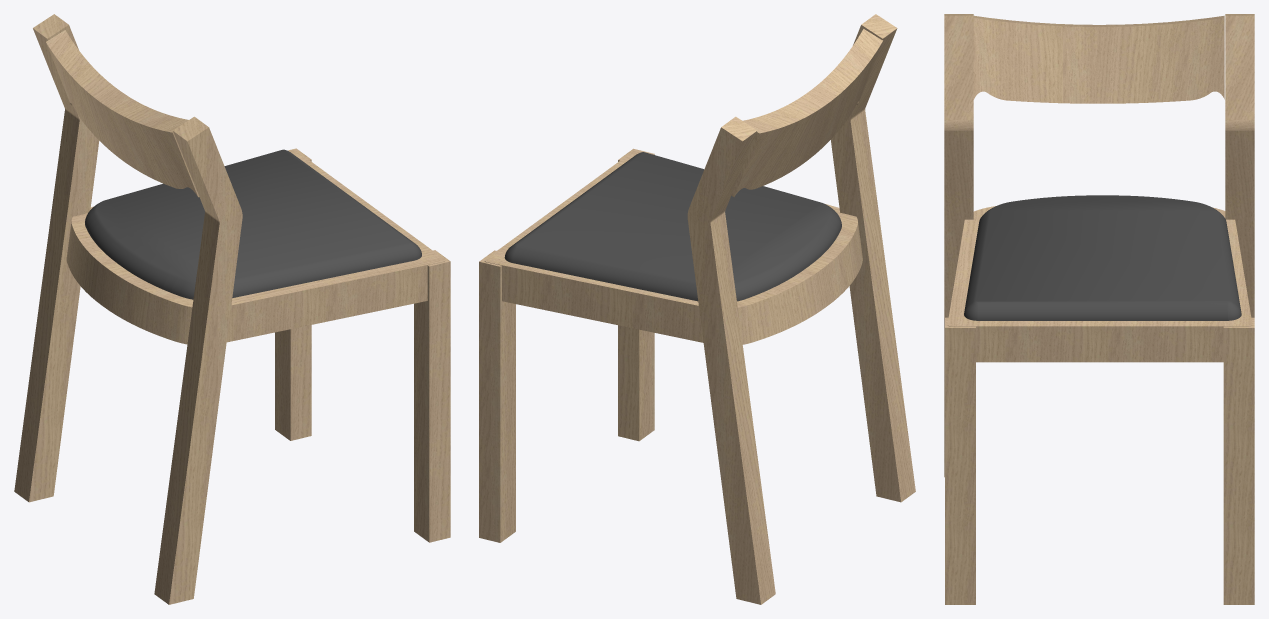
File: chair2.dae
3 renders of one model, left to right at view 1: azimuth 30°, elevation 25°; view 2: azimuth 150°, elevation 25°; view 3: azimuth 270°, elevation 25°, orthographic.
Visible parts, largest first — view 1: Profile_Chair (×6), Seat; view 2: Profile_Chair (×6), Seat; view 3: Profile_Chair (×6), Seat.
Part boxes in pixels (x1,y1,x2,y2): Profile_Chair (×6): (14, 14, 450, 604); Seat: (85, 149, 421, 299); Profile_Chair (×6): (479, 14, 915, 604); Seat: (504, 152, 841, 301); Profile_Chair (×6): (944, 14, 1254, 604); Seat: (964, 195, 1241, 320).
Size of the model in its own units: 19.82 by 18.83 by 31.53.
